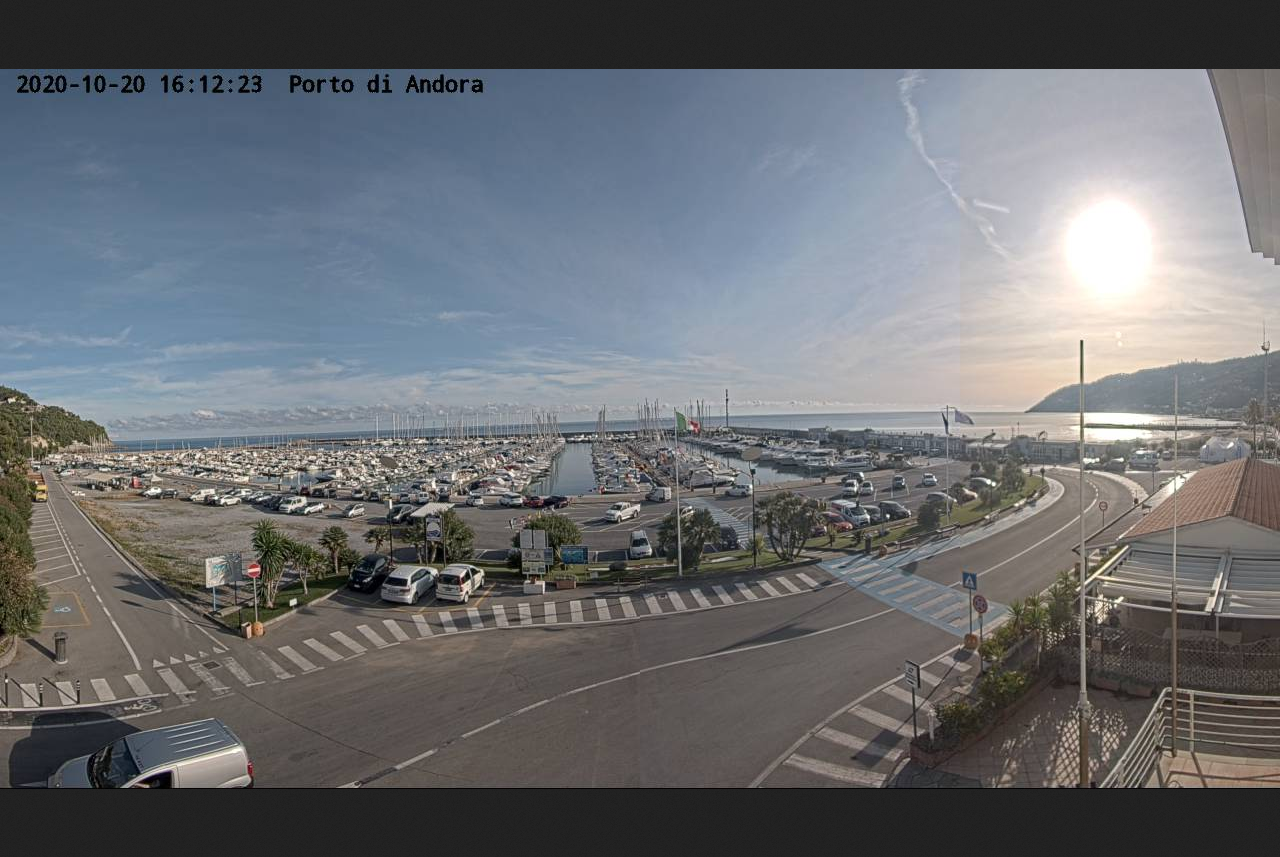yes: (672, 407, 709, 436), (952, 407, 979, 430)
